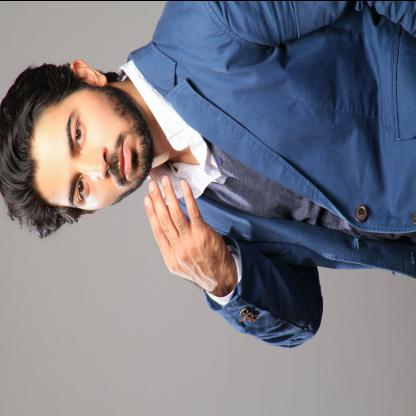Eye: (73, 116, 89, 151), (77, 173, 90, 201)
Mouth: (117, 135, 133, 182)
Nose: (79, 145, 110, 178)
